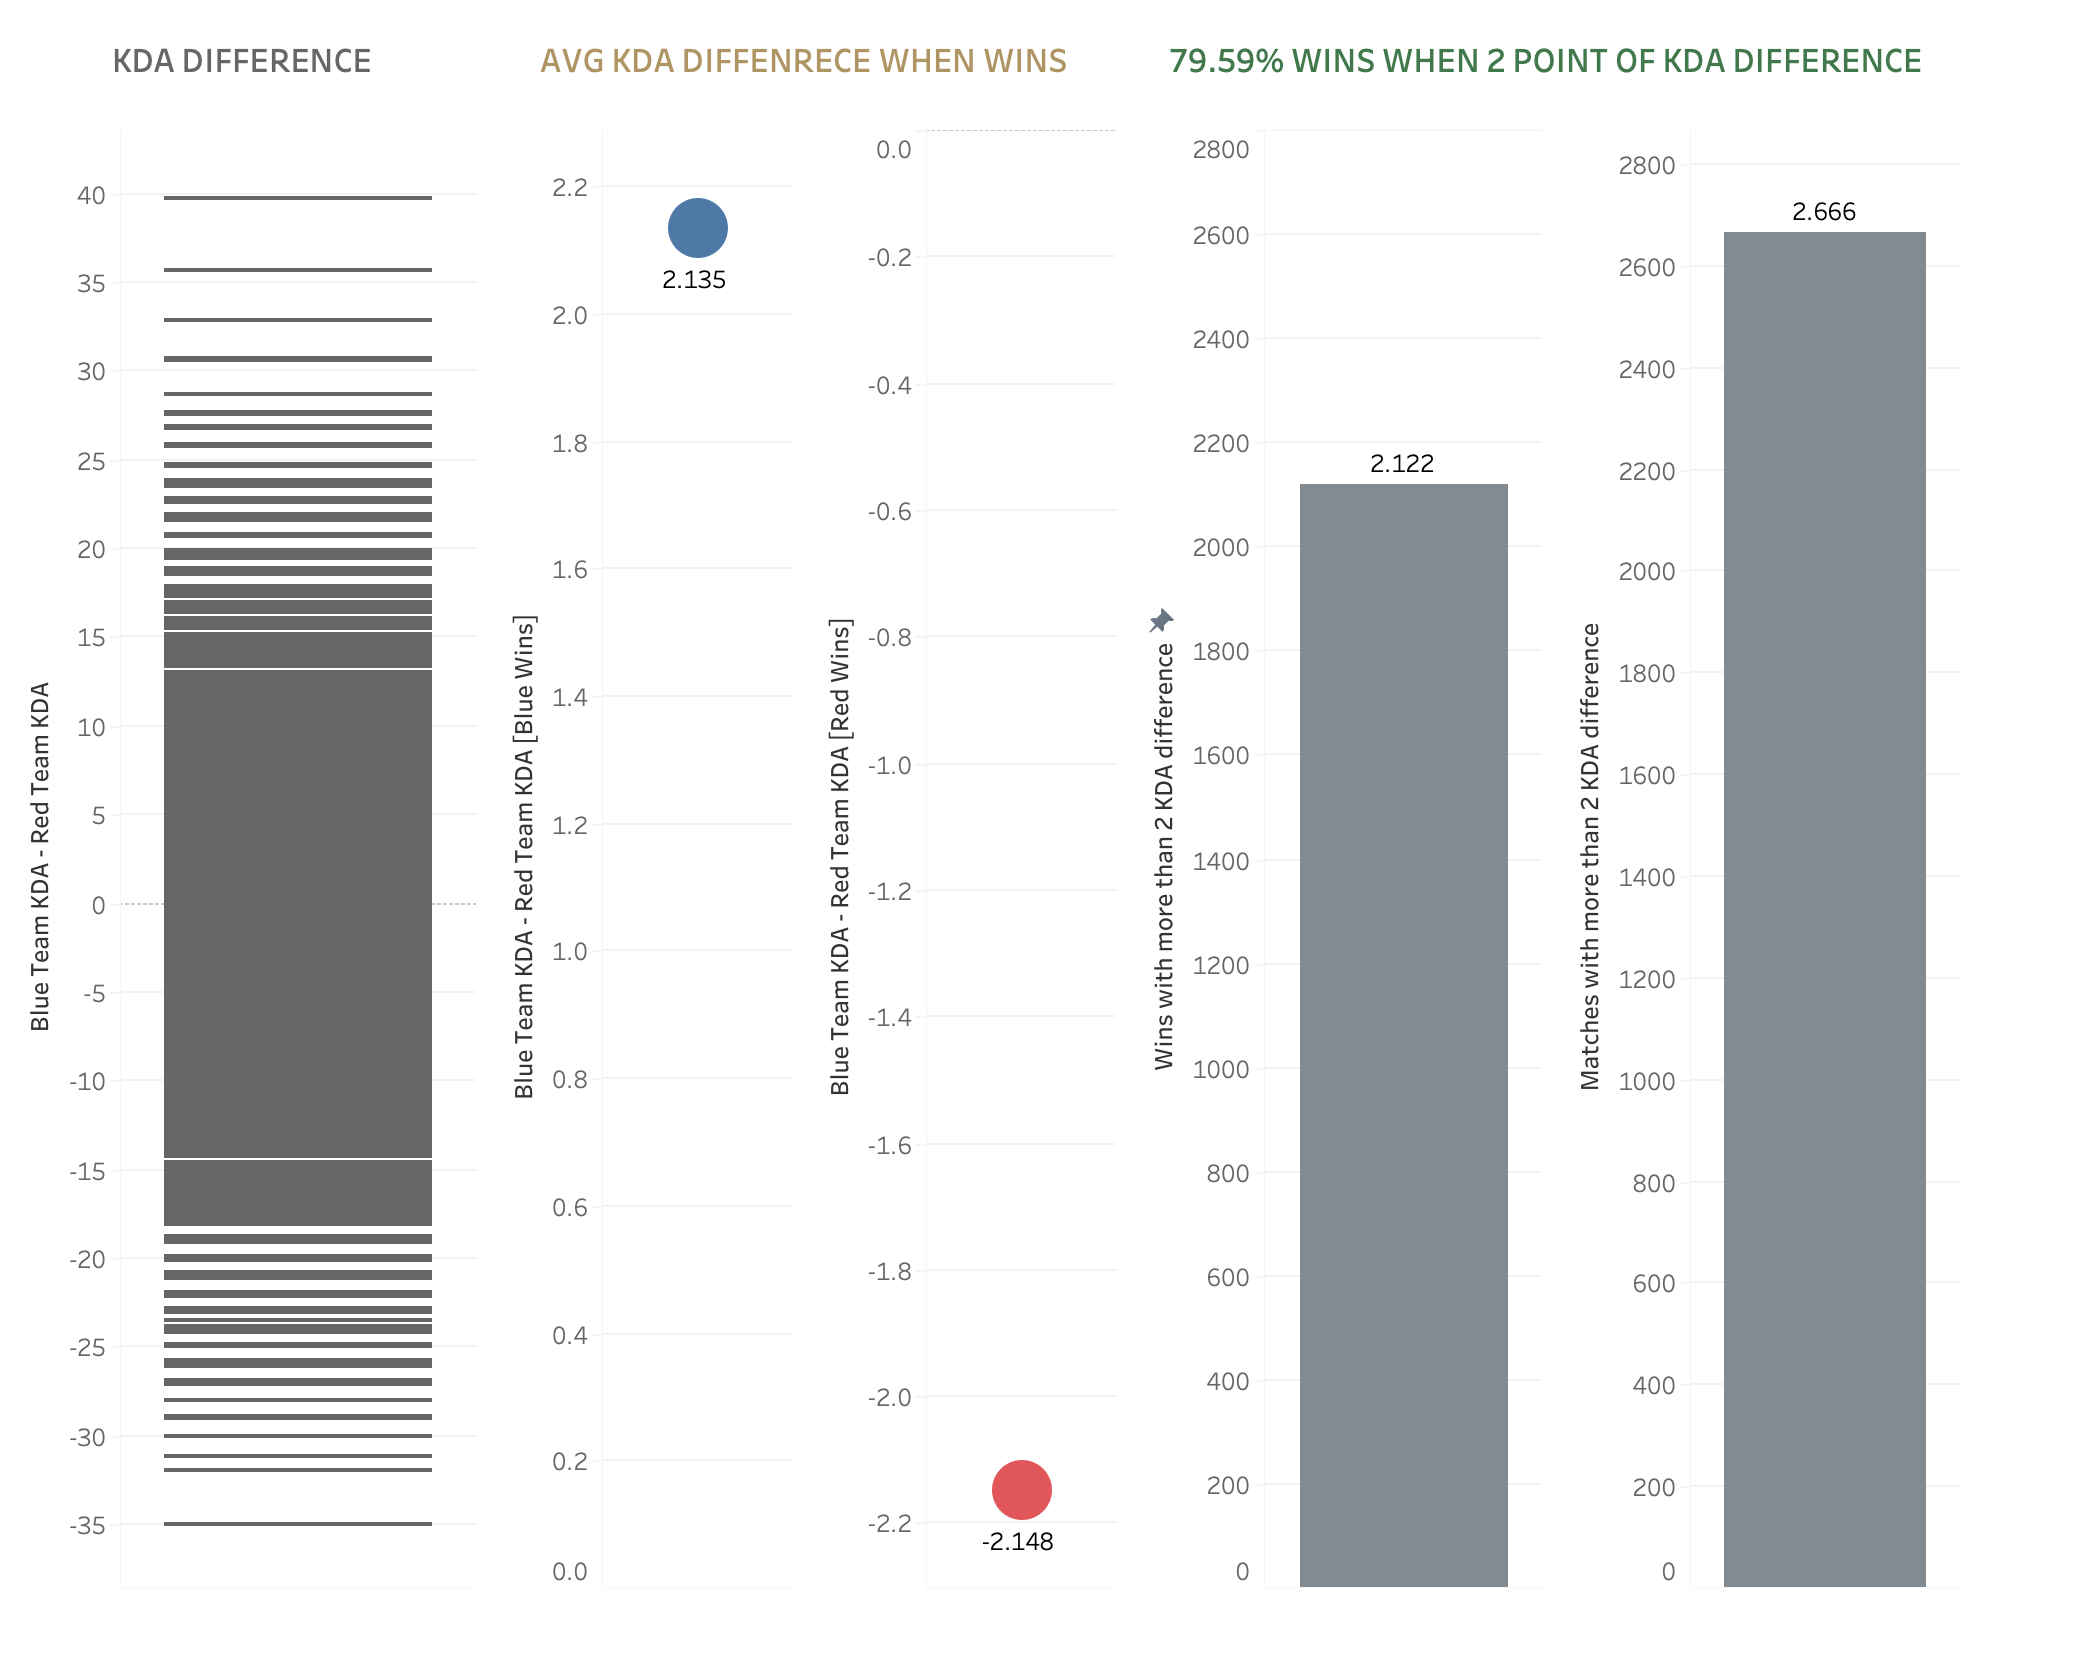

What the dashboard file says about the page in this screenshot:
{"tool":"tableau","page":{"name":"KDA DIFFERENCE AND WINRATE","canvas":[1000,800],"ordinal":1},"visuals":[{"type":"text","box":[8,8,242,32]},{"type":"text","box":[250,8,320,32]},{"type":"text","box":[570,8,422,32]},{"type":"worksheet","title":"diferencia de KDA","mark":"GanttBar","rows":["Calculation_2247155529010937857"],"box":[8,40,242,752]},{"type":"worksheet","title":"diferencia de KDA blue wins","mark":"Circle","rows":["Calculation_2247155529010937857"],"box":[250,40,158,752]},{"type":"worksheet","title":"diferencia de KDA red wins","mark":"Circle","rows":["Calculation_2247155529010937857"],"box":[408,40,162,752]},{"type":"worksheet","title":"diferencia de KDA de 2 ganadas","mark":"Automatic","rows":["blueWins"],"box":[570,40,213,752]},{"type":"worksheet","title":"diferencia de KDA de 2 ganadas (2)","mark":"Automatic","rows":["blueWins"],"box":[783,40,209,752]}]}

Visuals, with their boxes in screenshot pixels (x1, y1, x2, y2), scaled from the page's 1000x800 canvas onto the 2080x1660 screenshot:
text: bbox=[17, 17, 520, 83]
text: bbox=[520, 17, 1186, 83]
text: bbox=[1186, 17, 2063, 83]
"diferencia de KDA" worksheet (GanttBar marks): bbox=[17, 83, 520, 1643]
"diferencia de KDA blue wins" worksheet (Circle marks): bbox=[520, 83, 849, 1643]
"diferencia de KDA red wins" worksheet (Circle marks): bbox=[849, 83, 1186, 1643]
"diferencia de KDA de 2 ganadas" worksheet: bbox=[1186, 83, 1629, 1643]
"diferencia de KDA de 2 ganadas (2)" worksheet: bbox=[1629, 83, 2063, 1643]
